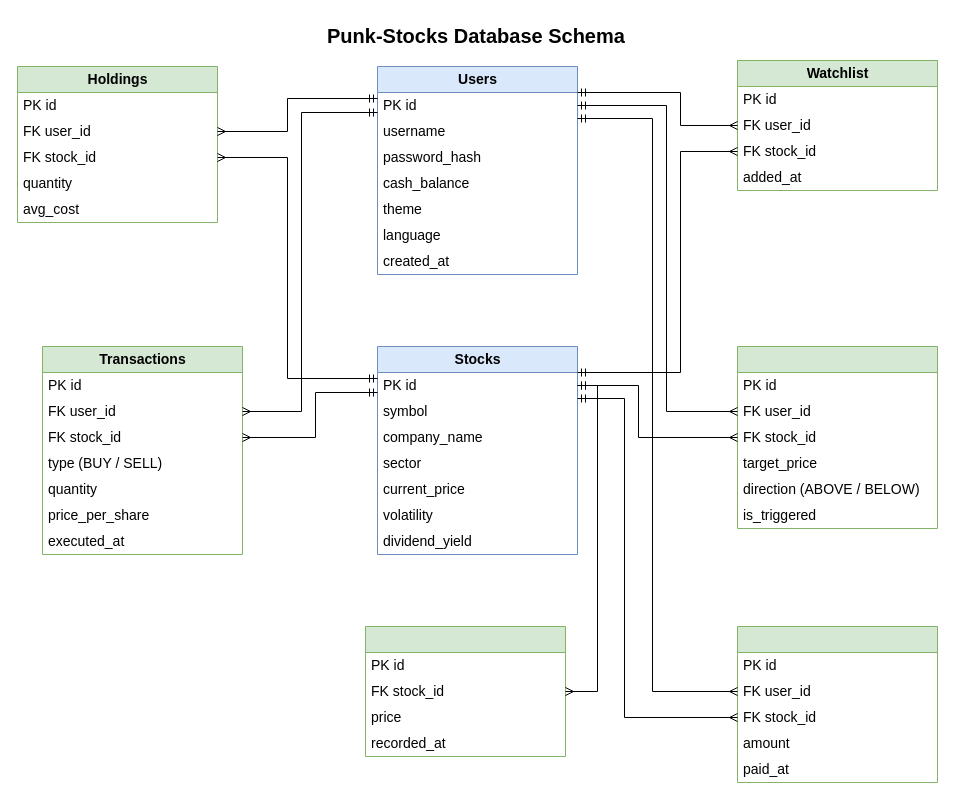
The diagram is 955 pixels wide and 800 high, and some of its shapes have lost their labels. The shapes that lost their labels are listed below. From the top down, each one's box as (x1, y1, x2, y2) in pixels, then its label:
(736, 346, 938, 528): Alerts
(364, 626, 566, 756): PriceHistory
(736, 626, 938, 782): Dividends
